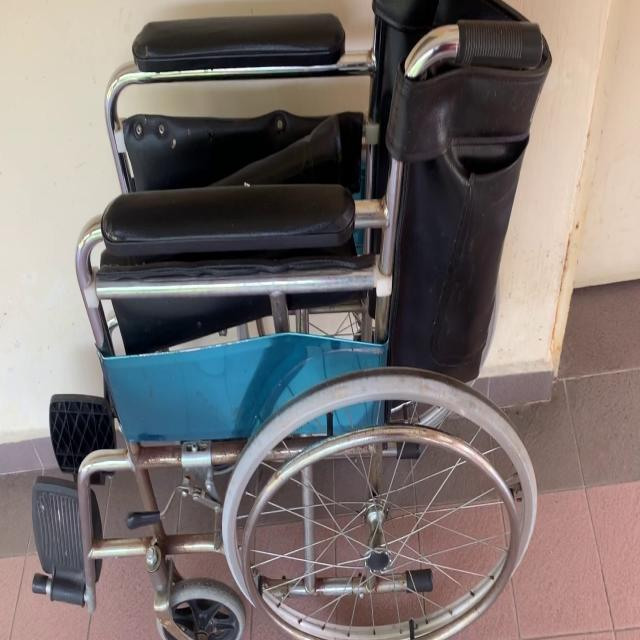wheelchair: (25, 0, 564, 640)
